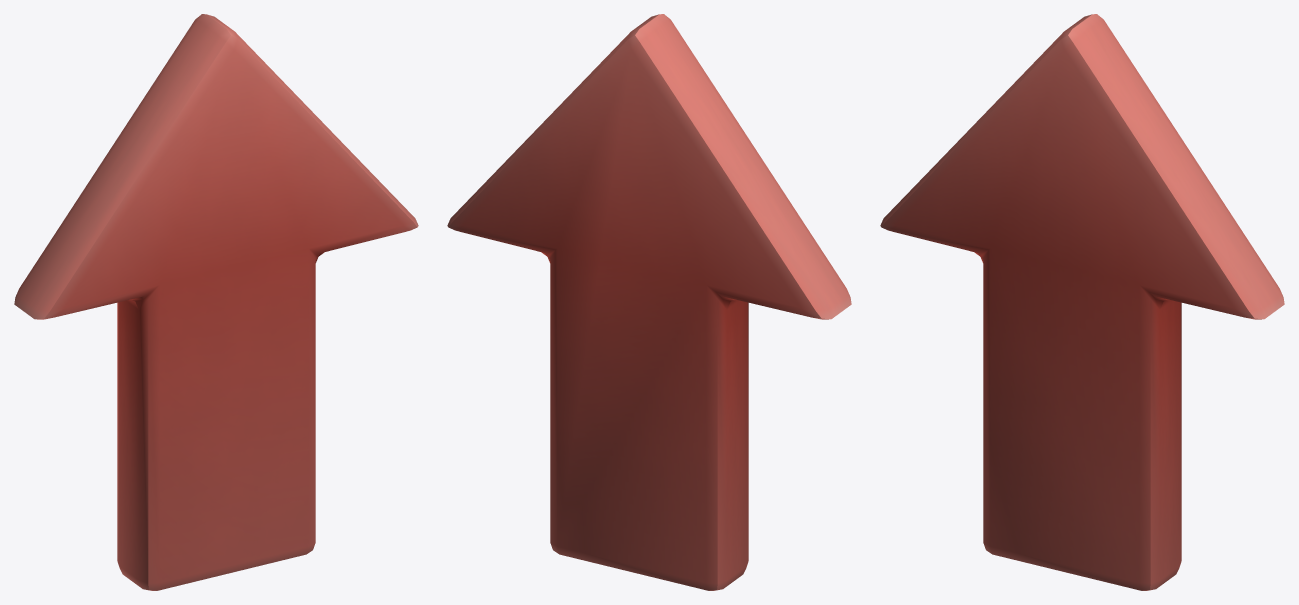
The model's file is UpArrow.fbx.
The picture shows the model from 3 angles, left to right: view 1: azimuth 30°, elevation 25°; view 2: azimuth 150°, elevation 25°; view 3: azimuth 330°, elevation 25°; orthographic projection.
Parts seen in each view (by area): view 1: UpArrow; view 2: UpArrow; view 3: UpArrow.
Part boxes in pixels (bbox=[...]): UpArrow: bbox=[14, 14, 418, 590]; UpArrow: bbox=[447, 14, 851, 590]; UpArrow: bbox=[880, 14, 1284, 590].
Bounding box in the file's own units: 87.72 × 119 × 14.
